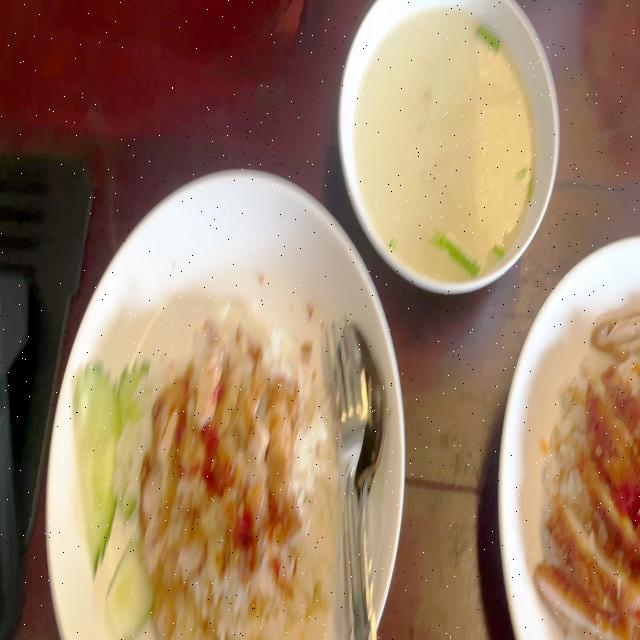chicken_rice: (73, 304, 333, 640), (536, 303, 640, 640)
cucumber: (72, 358, 156, 640), (103, 532, 154, 640)
fried_chicken: (149, 324, 303, 572), (535, 322, 640, 631)
